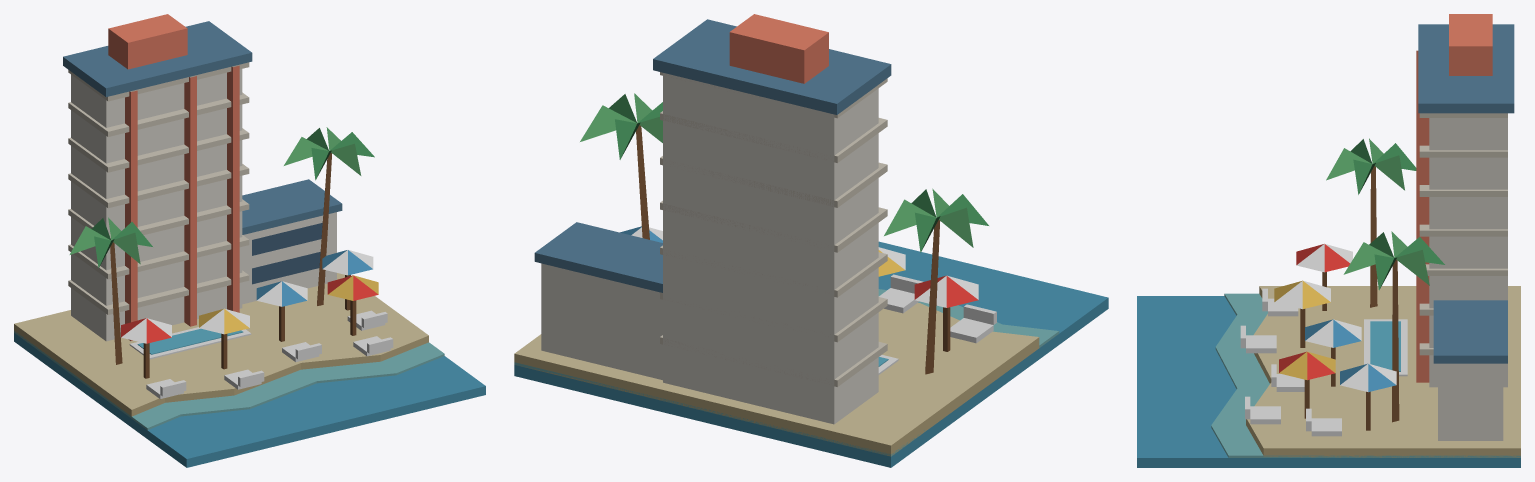
File: plageWonsan.glb
3 renders of one model, left to right at view 1: azimuth 30°, elevation 25°; view 2: azimuth 150°, elevation 25°; view 3: azimuth 270°, elevation 25°, orthographic. The views are drawn at different scales.
Visible parts, largest first — view 1: plageWonsan; view 2: plageWonsan; view 3: plageWonsan.
Boxes of the visible parts, <box> form: plageWonsan: <box>14,14,485,467</box>; plageWonsan: <box>514,14,1108,467</box>; plageWonsan: <box>1137,14,1520,467</box>.
Bounding box in the file's own units: 1.79 × 1.7 × 1.76.
